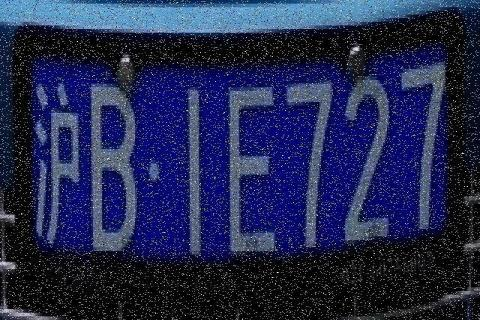LicensePlate: (14, 6, 464, 314)
